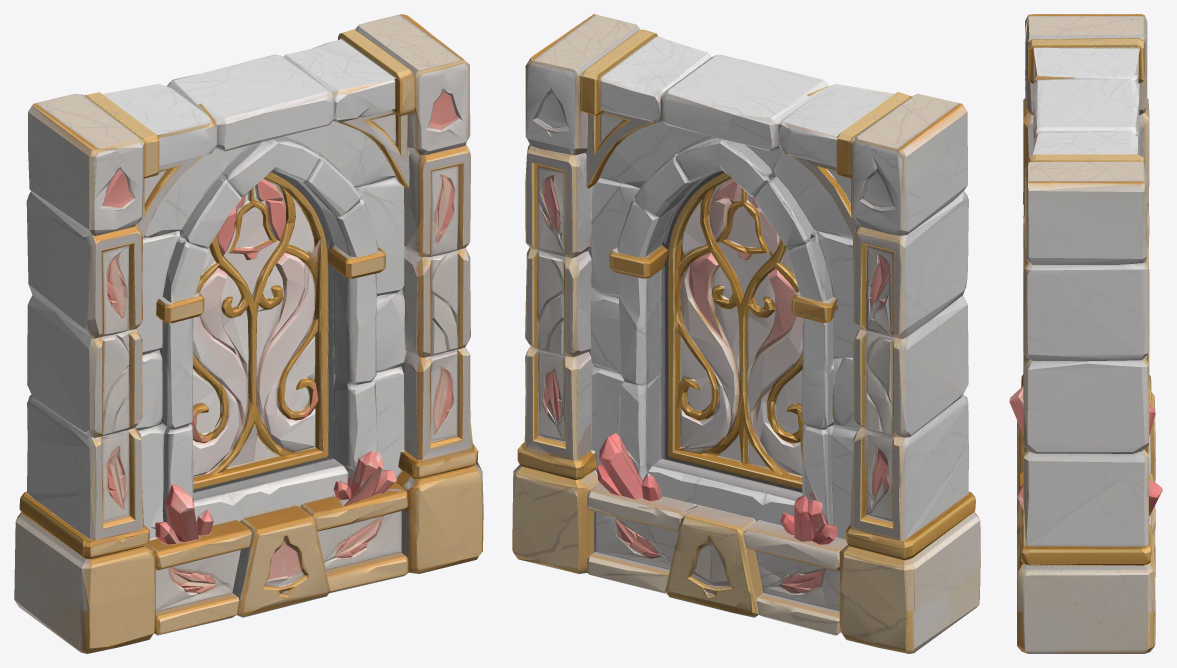
Rendered from wh_wall_window.fbx.
3 views of the same model, side by side, from view 1: azimuth 30°, elevation 25°; view 2: azimuth 150°, elevation 25°; view 3: azimuth 270°, elevation 25° (orthographic). The views are drawn at different scales.
Visible parts, largest first — view 1: wh_wall_window; view 2: wh_wall_window; view 3: wh_wall_window.
Boxes of the visible parts, x1,y1,x2,y2 form: wh_wall_window: (14,14,483,653); wh_wall_window: (512,14,980,653); wh_wall_window: (1009,14,1162,653).
Size of the model in its own units: 6.32 by 7.5 by 2.24.
